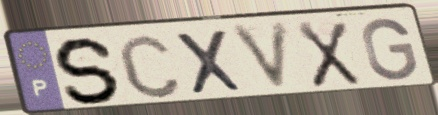C: (114, 31, 185, 101)
G: (360, 16, 420, 83)
S: (51, 35, 124, 106)
V: (226, 18, 293, 95)
X: (171, 27, 247, 97), (293, 20, 363, 90)
